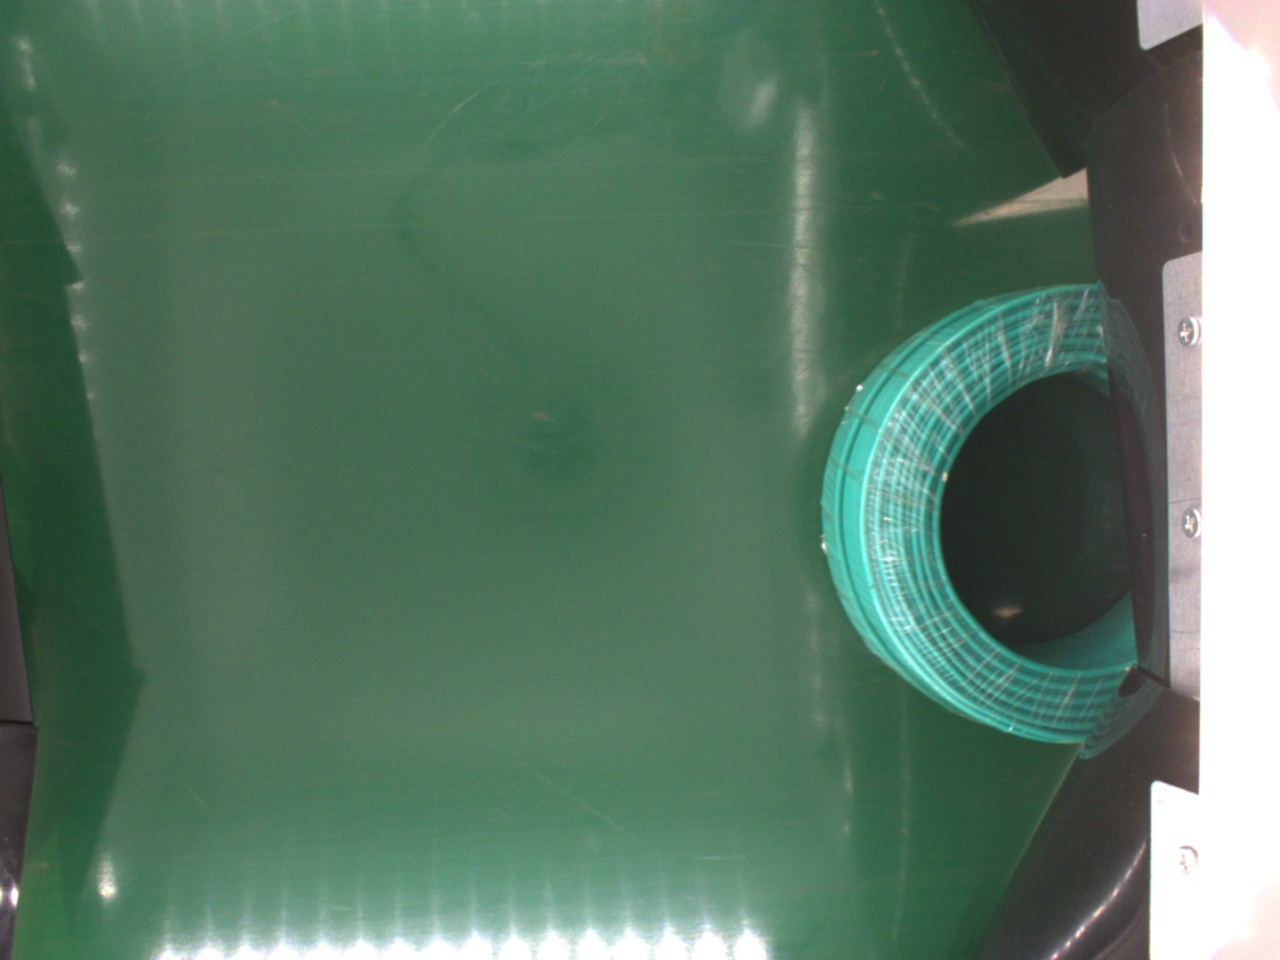green: (818, 282, 1144, 743)
